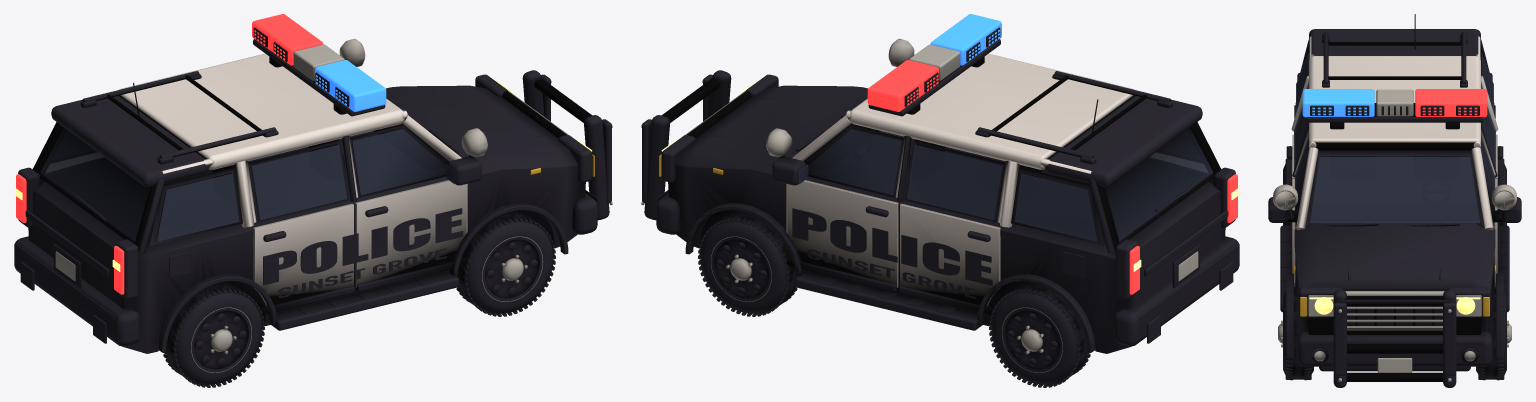
The model's file is veh.police-suv.glb.
The picture shows the model from 3 angles, left to right: view 1: azimuth 30°, elevation 25°; view 2: azimuth 150°, elevation 25°; view 3: azimuth 270°, elevation 25°; orthographic projection. The views are drawn at different scales.
Visible parts, largest first — view 1: body, wheelRR, wheelFR, sirenR, sirenL, lightsBrake; view 2: body, wheelRL, wheelFL, sirenL, sirenR, lightsBrake; view 3: body, sirenR, sirenL, wheelFL, wheelFR, lightsFront.
Part boxes in pixels (<box>): body: <box>14,27,612,353</box>; wheelRR: <box>163,282,264,387</box>; wheelFR: <box>456,211,555,316</box>; sirenR: <box>315,60,386,111</box>; sirenL: <box>252,14,323,65</box>; lightsBrake: <box>15,174,124,294</box>; body: <box>641,27,1239,353</box>; wheelRL: <box>989,282,1090,387</box>; wheelFL: <box>698,211,797,316</box>; sirenL: <box>867,60,938,111</box>; sirenR: <box>930,14,1001,65</box>; lightsBrake: <box>1129,174,1238,294</box>; body: <box>1268,14,1521,387</box>; sirenR: <box>1302,89,1374,117</box>; sirenL: <box>1415,89,1487,117</box>; wheelFL: <box>1476,286,1511,380</box>; wheelFR: <box>1278,286,1313,380</box>; lightsFront: <box>1309,297,1480,314</box>.
Size of the model in its own units: 5.29 by 2.48 by 2.5.
